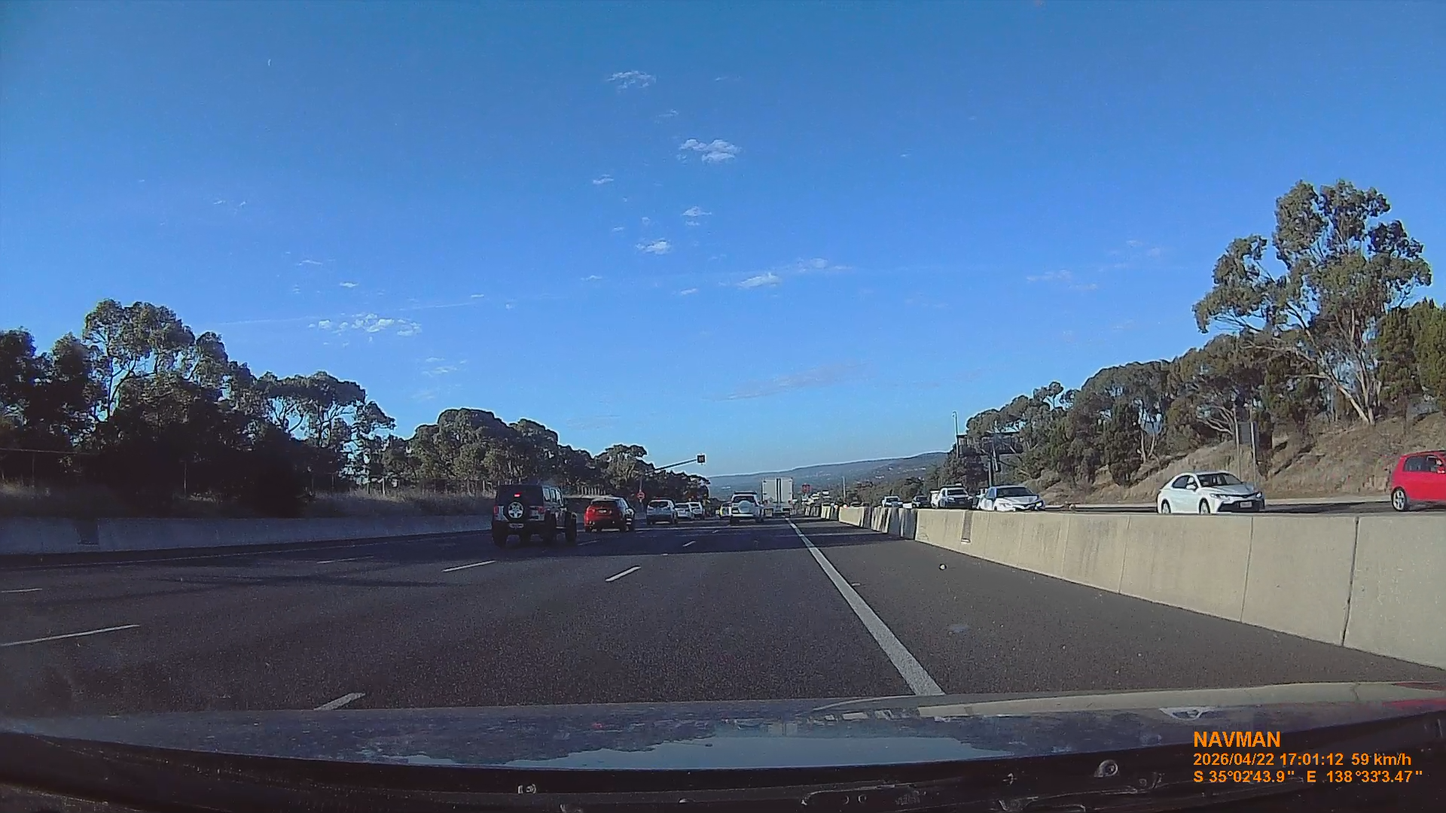road barriers: (0, 515, 484, 556)
